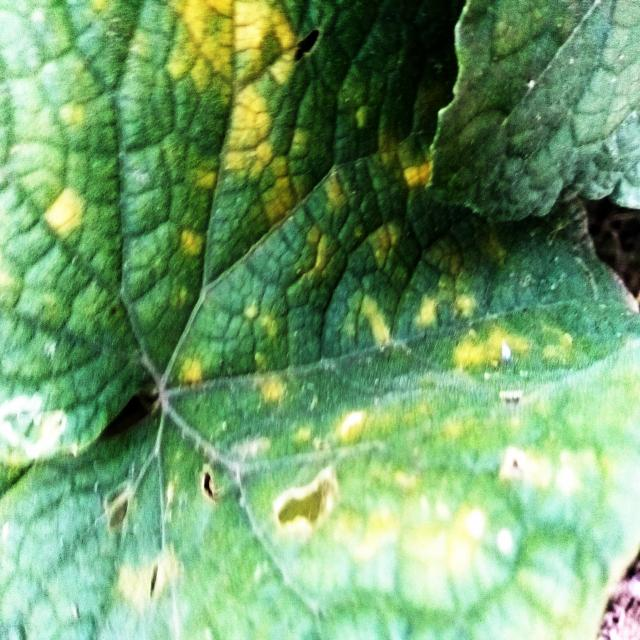Downy-Mildew: (1, 0, 638, 640)
